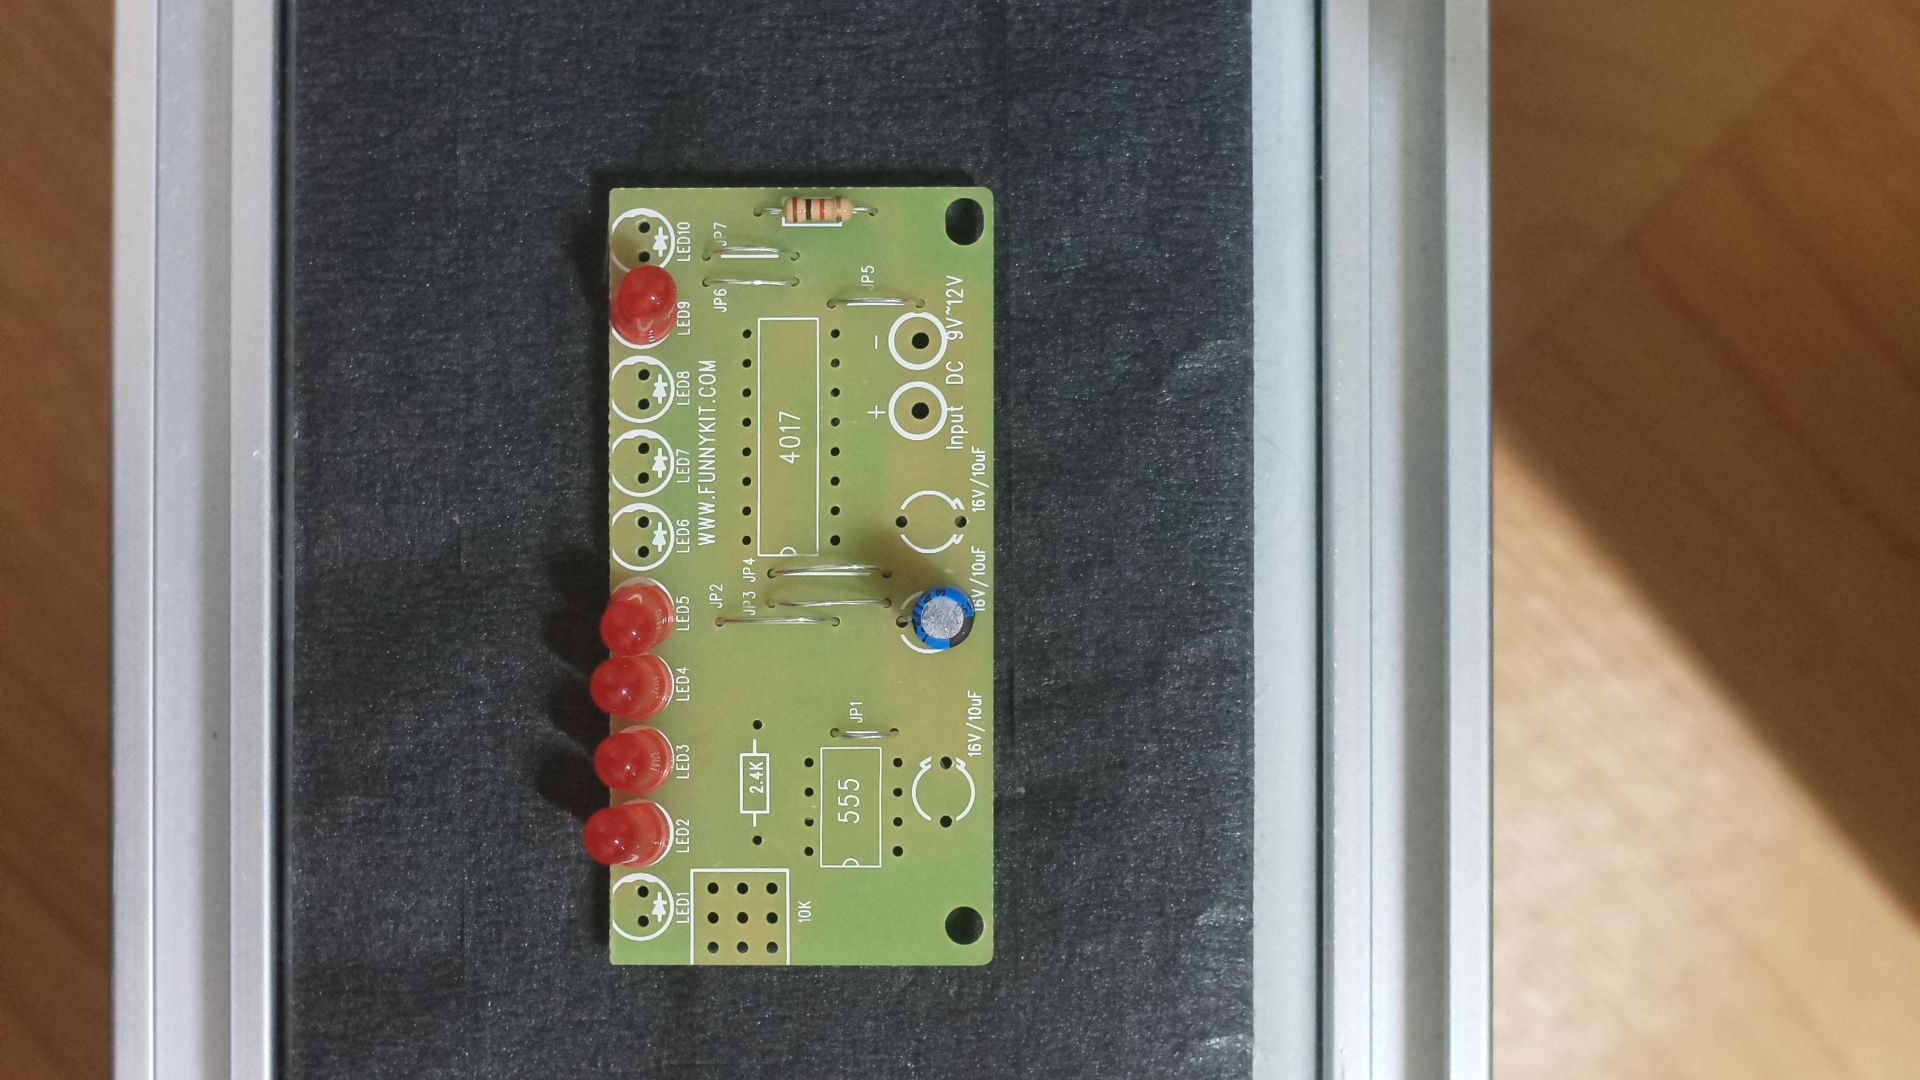B_Missing_part: (580, 164, 1007, 975)
